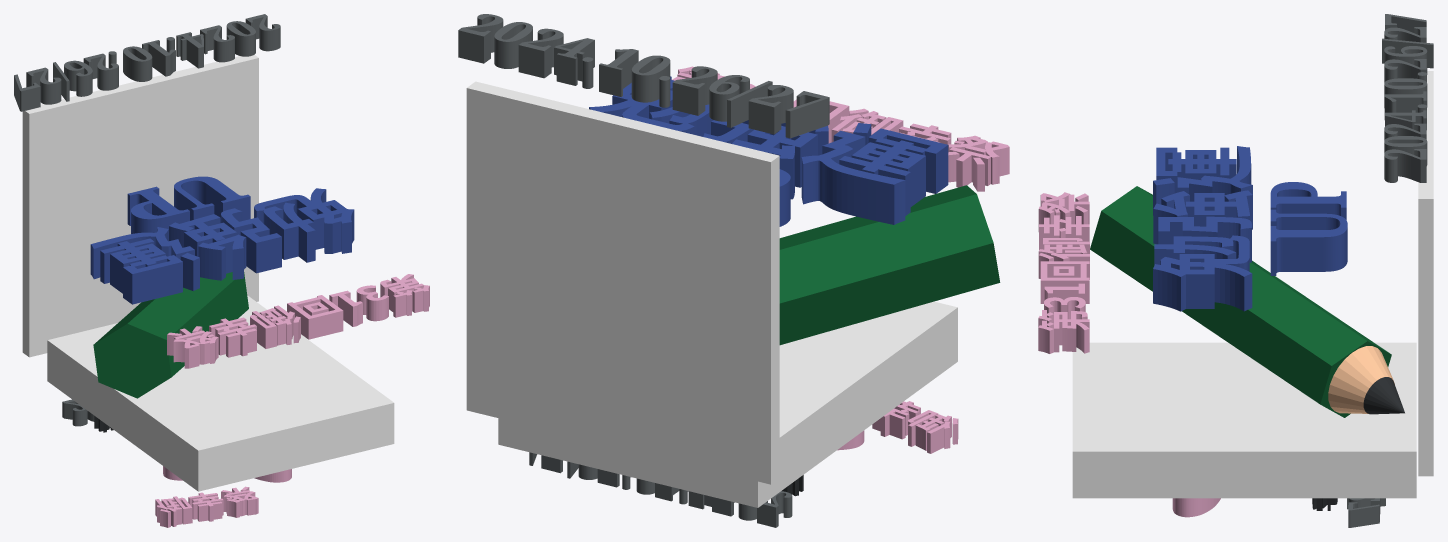
File: tinker.obj
The picture shows the model from 3 angles, left to right: view 1: azimuth 30°, elevation 25°; view 2: azimuth 150°, elevation 25°; view 3: azimuth 270°, elevation 25°; orthographic projection. The views are drawn at different scales.
Visible parts, largest first — view 1: group_0_16448250, group_0_3888547, group_0_15708628, group_0_6383466, group_0_1206582; view 2: group_0_16448250, group_0_1206582, group_0_6383466, group_0_3888547, group_0_15708628; view 3: group_0_16448250, group_0_3888547, group_0_1206582, group_0_15708628, group_0_6383466, group_0_16500122, group_0_2829873.
Part boxes in pixels (bbox=[...]): group_0_16448250: bbox=[22, 54, 394, 491]; group_0_3888547: bbox=[90, 176, 354, 304]; group_0_15708628: bbox=[155, 274, 429, 527]; group_0_6383466: bbox=[14, 14, 280, 426]; group_0_1206582: bbox=[93, 272, 248, 398]; group_0_16448250: bbox=[466, 81, 957, 507]; group_0_1206582: bbox=[779, 185, 1000, 345]; group_0_6383466: bbox=[458, 14, 829, 527]; group_0_3888547: bbox=[589, 76, 948, 226]; group_0_15708628: bbox=[672, 66, 1009, 453]; group_0_16448250: bbox=[1072, 71, 1433, 498]; group_0_3888547: bbox=[1153, 146, 1347, 311]; group_0_1206582: bbox=[1090, 186, 1391, 417]; group_0_15708628: bbox=[1038, 192, 1220, 517]; group_0_6383466: bbox=[1347, 14, 1433, 527]; group_0_16500122: bbox=[1328, 346, 1394, 413]; group_0_2829873: bbox=[1312, 377, 1404, 510].
Size of the model in its own units: 16.52 by 19.38 by 17.25.
